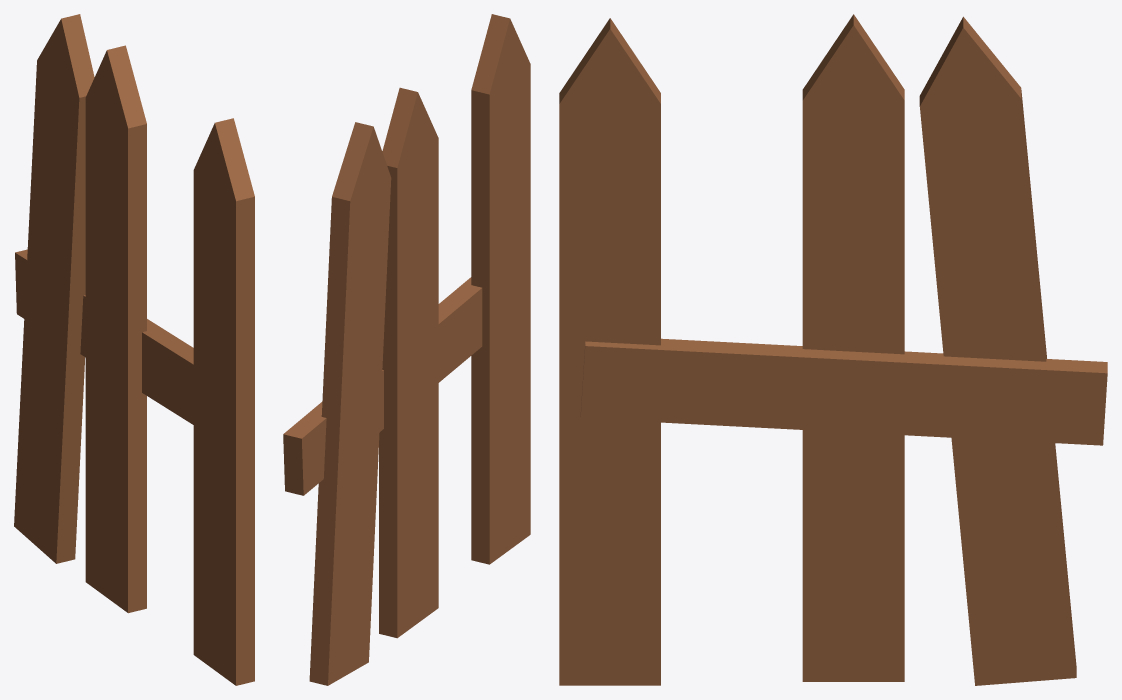
Rendered from fence_e_2.fbx.
3 views of the same model, side by side, from view 1: azimuth 30°, elevation 25°; view 2: azimuth 150°, elevation 25°; view 3: azimuth 270°, elevation 25° (orthographic). The views are drawn at different scales.
Parts seen in each view (by area): view 1: Cube.013; view 2: Cube.013; view 3: Cube.013.
Boxes of the visible parts, left/top/right/bottom form: Cube.013: left=14, top=14, right=254, bottom=685; Cube.013: left=283, top=14, right=530, bottom=685; Cube.013: left=559, top=14, right=1107, bottom=685.
Size of the model in its own units: 6.33 by 101 by 75.61.
